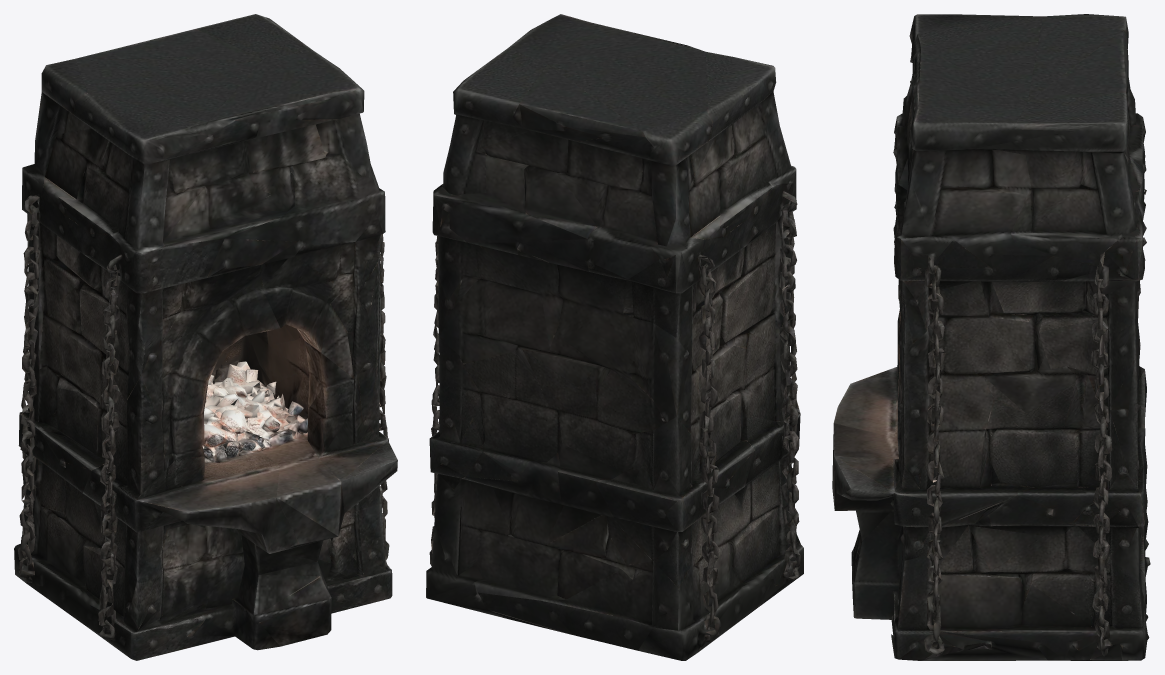
Rendered from forge.glb.
3 views of the same model, side by side, from view 1: azimuth 30°, elevation 25°; view 2: azimuth 150°, elevation 25°; view 3: azimuth 270°, elevation 25° (orthographic). The views are drawn at different scales.
Visible parts, largest first — view 1: mesh_node; view 2: mesh_node; view 3: mesh_node.
Boxes of the visible parts, x1=… form: mesh_node: x1=14, y1=14, x2=397, y2=660; mesh_node: x1=426, y1=14, x2=803, y2=660; mesh_node: x1=832, y1=14, x2=1150, y2=660.
Bounding box in the file's own units: 1.13 × 1.9 × 1.04.
1 material, 1 textured.
